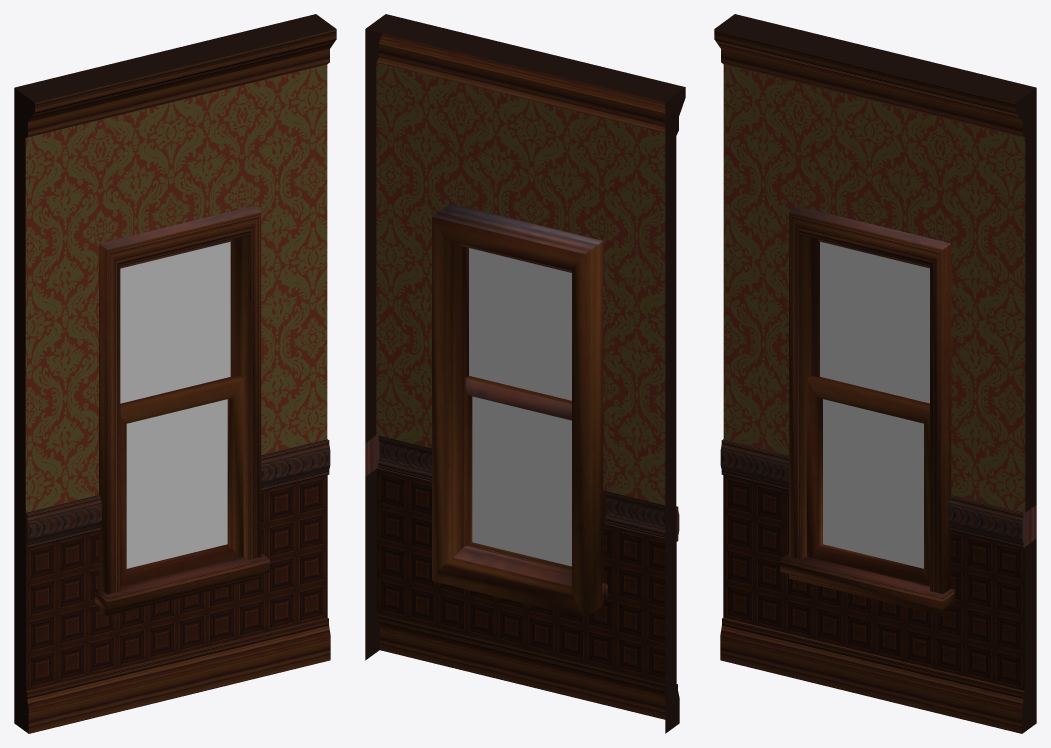
The model's file is Wall1Window.fbx.
3 views of the same model, side by side, from view 1: azimuth 30°, elevation 25°; view 2: azimuth 150°, elevation 25°; view 3: azimuth 330°, elevation 25° (orthographic).
Parts seen in each view (by area): view 1: Wall1Window; view 2: Wall1Window; view 3: Wall1Window.
Boxes of the visible parts, left/top/right/bottom form: Wall1Window: left=14, top=14, right=336, bottom=733; Wall1Window: left=365, top=14, right=685, bottom=733; Wall1Window: left=714, top=14, right=1036, bottom=733.
Bounding box in the file's own units: 185 × 371 × 32.96.
